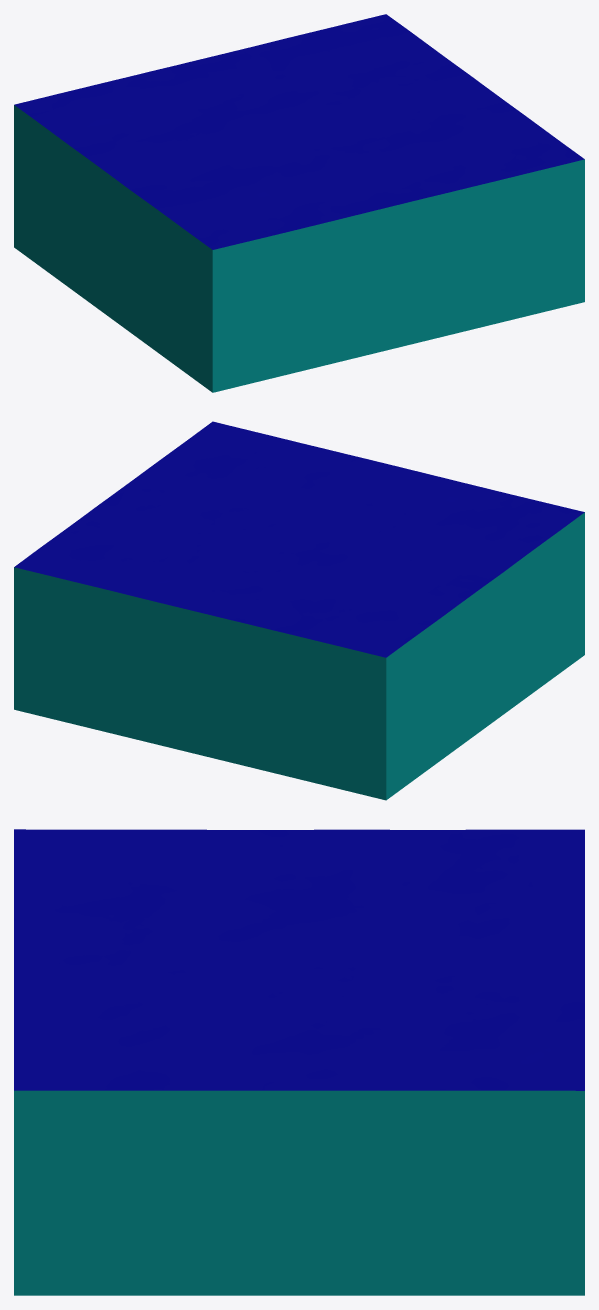
The model's file is mare01.FBX.
The picture shows the model from 3 angles, top to bottom: view 1: azimuth 30°, elevation 25°; view 2: azimuth 150°, elevation 25°; view 3: azimuth 270°, elevation 25°; orthographic projection. The views are drawn at different scales.
Visible parts, largest first — view 1: mare; view 2: mare; view 3: mare.
Boxes of the visible parts, x1=… form: mare: x1=14, y1=14, x2=584, y2=392; mare: x1=14, y1=421, x2=584, y2=800; mare: x1=14, y1=829, x2=584, y2=1295.
Bounding box in the file's own units: 605 × 222 × 560.
